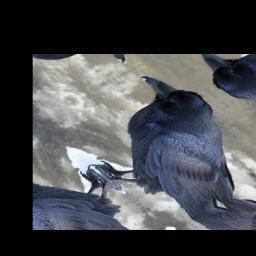Crow: (42, 65, 256, 229)
